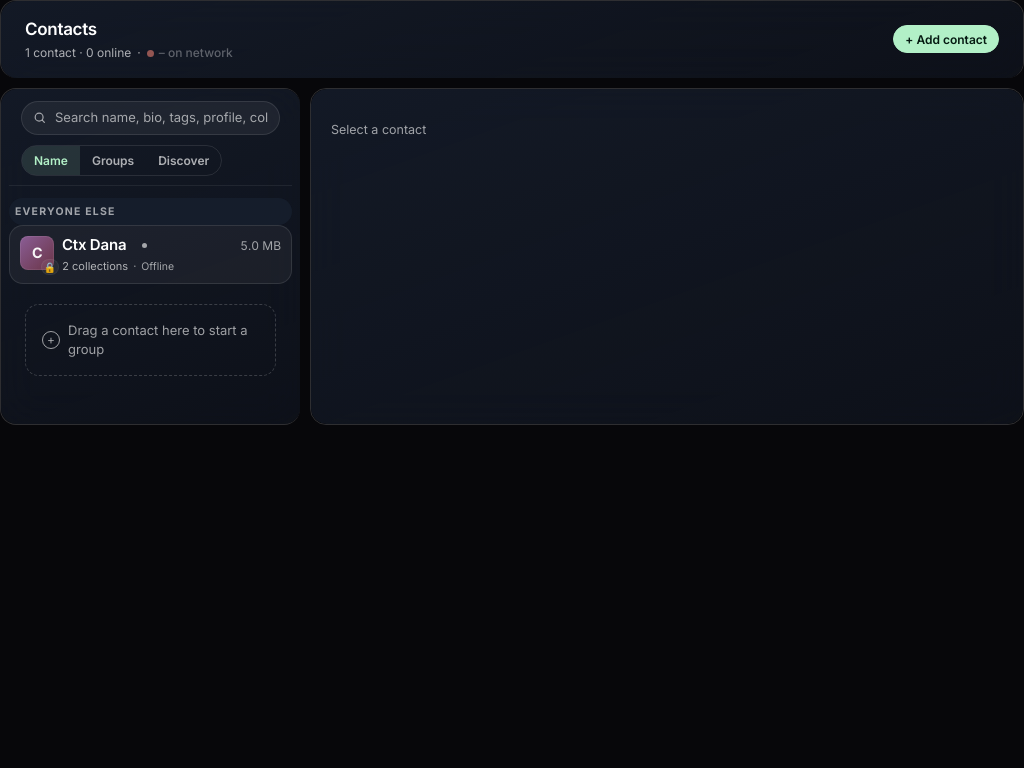
Test: QURATOR-381 — Contacts row context menu › right-click opens one menu with Browse, Message, a separator, then every ⋯ item in order; the event is default-prevented; the contact is selected first
Right-click the option with class "contact-card" at (37, 253), box [9,226,292,284]
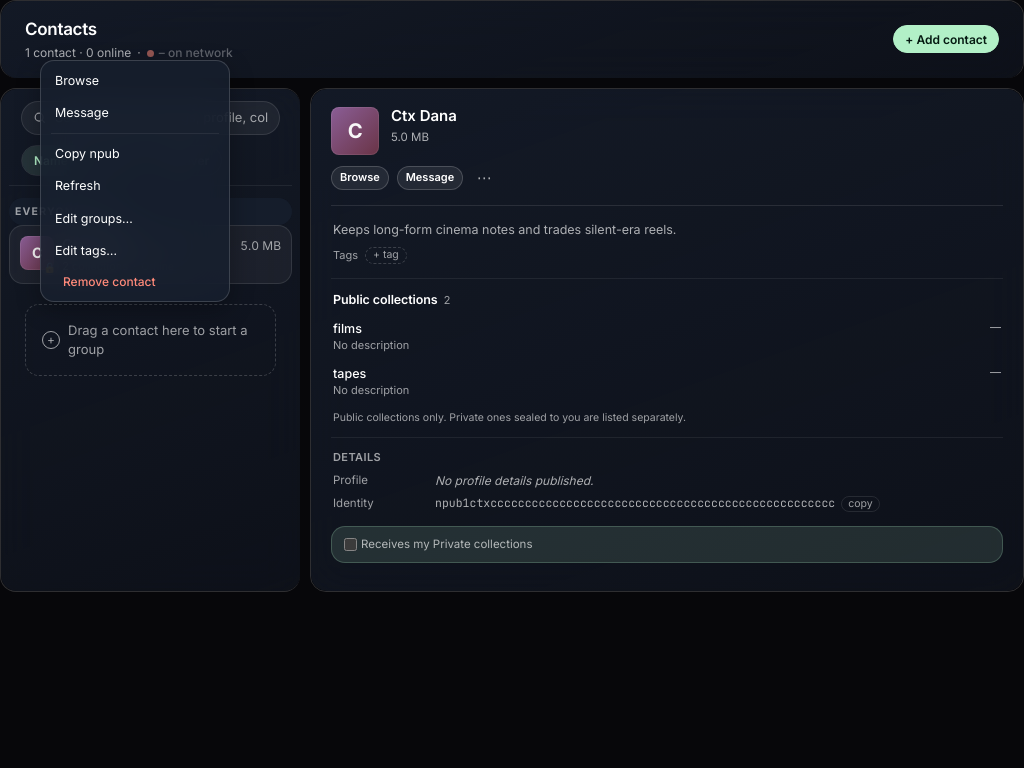
Now the text "Keeps long-form cinema notes and trades silent-era reels." is shown, box [333,222,676,237]
Now the number of menus with class "overflow-menu" is 1, box [40,60,230,302]
Now the element with class "menu-item-confirm" reads "Remove contact", box [51,270,168,294]
